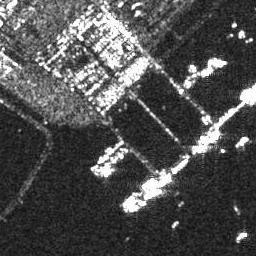ship: (171, 158, 189, 175), (121, 194, 136, 209), (143, 188, 163, 199), (235, 135, 250, 149), (235, 230, 249, 243), (98, 154, 110, 164), (200, 115, 210, 127), (171, 221, 180, 228)
